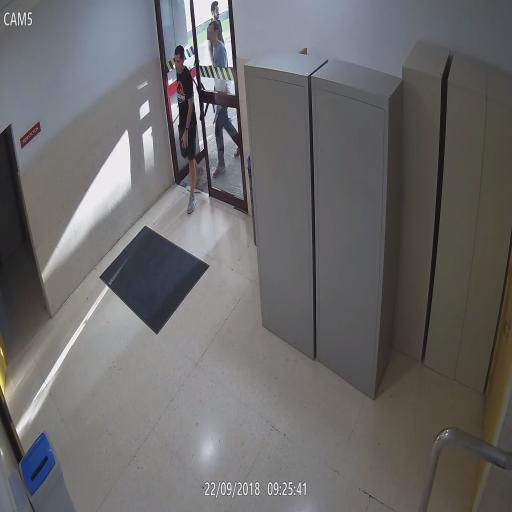Handgun: (202, 103, 210, 117)
